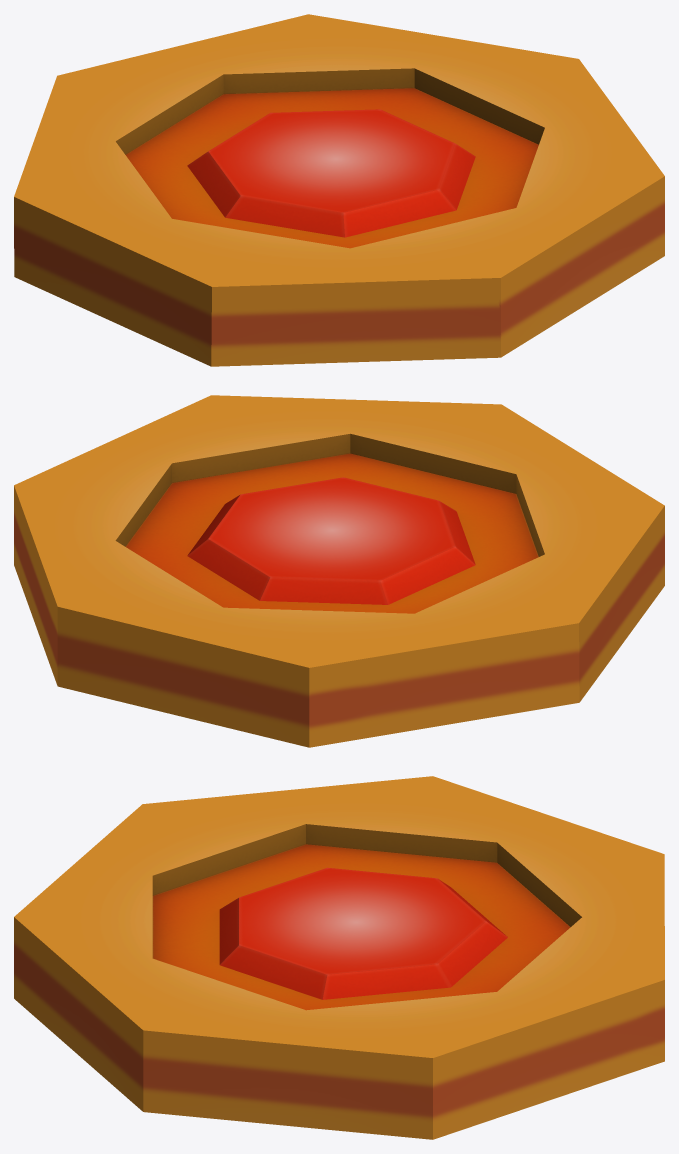
File: Coin3.fbx
3 views of the same model, one above another, from view 1: azimuth 30°, elevation 25°; view 2: azimuth 150°, elevation 25°; view 3: azimuth 270°, elevation 25° (orthographic). The views are drawn at different scales.
Parts seen in each view (by area): view 1: Coin3_LOD0; view 2: Coin3_LOD0; view 3: Coin3_LOD0.
Part boxes in pixels (x1,y1,x2,y2): Coin3_LOD0: [14, 14, 664, 366]; Coin3_LOD0: [14, 395, 664, 747]; Coin3_LOD0: [14, 776, 664, 1139].
Size of what is drawn, in the model's own units: 176 by 23.72 by 171.
